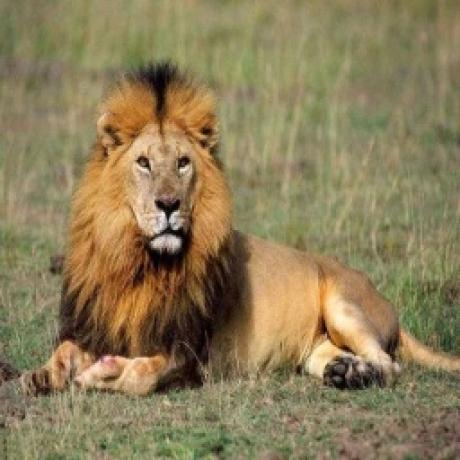Lion: (21, 56, 460, 398)
